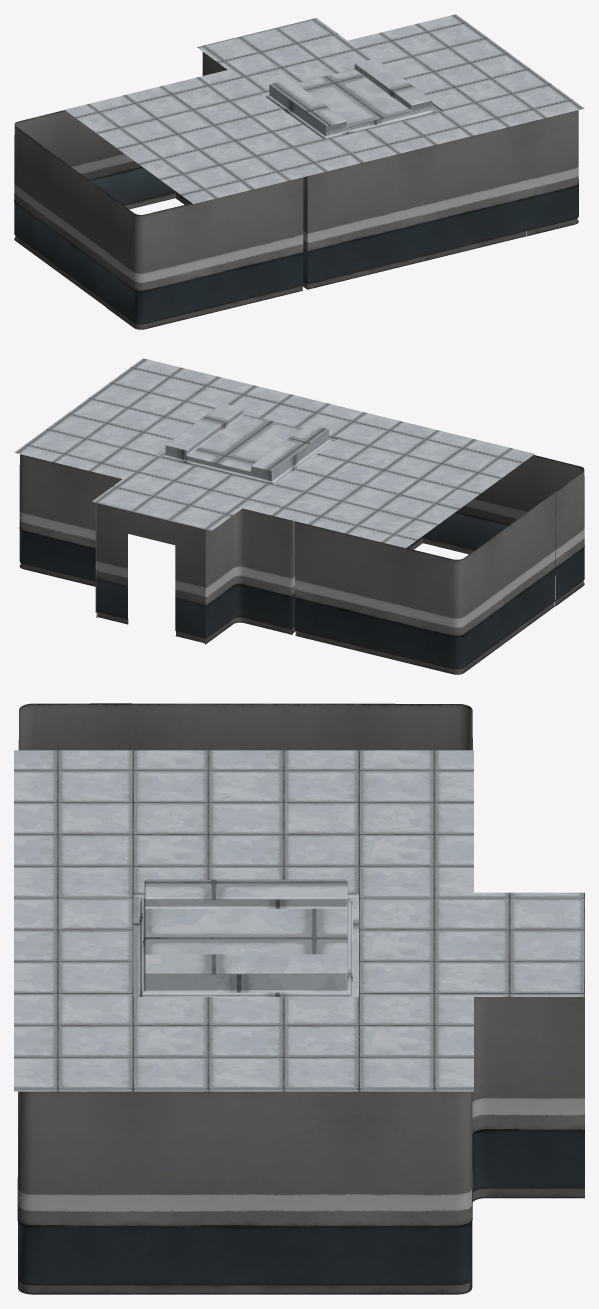
The model's file is StylizingAiRoomModulars 1.fbx.
3 views of the same model, one above another, from view 1: azimuth 30°, elevation 25°; view 2: azimuth 150°, elevation 25°; view 3: azimuth 270°, elevation 25° (orthographic). The views are drawn at different scales.
Visible parts, largest first — view 1: Floor.003, Sm_AIRoomWall_01.008, Sm_AIRoomWall_01.001, Sm_AIRoomWall_01.003, Sm_AIRoomWall_02.002, SM_Ceiling_02, Sm_AIRoomWall_01.007, Sm_AIRoomWall_02.004, Sm_AIRoomWall_02.001, Sm_AIRoomWall_01.006, Sm_AIRoomWall_01.004; view 2: Floor.003, Sm_AIRoomWall_01.006, Sm_AIRoomWall_02.001, Sm_AIRoomWall_03.002, Plane.003, SM_Ceiling_02, Sm_AIRoomWall_01.007, Sm_AIRoomWall_02.003, Sm_AIRoomWall_02.002, Sm_AIRoomWall_01.008, Sm_AIRoomWall_03.001, Plane.004; view 3: Floor.003, Sm_AIRoomWall_01.002, SM_Ceiling_02, Sm_AIRoomWall_02.004, Sm_AIRoomWall_02.003, Sm_AIRoomWall_03.001, Sm_AIRoomWall_01.007, Sm_AIRoomWall_02.002, Sm_AIRoomWall_02.001.
Boxes of the visible parts, left/top/right/bottom form: Floor.003: left=64, top=14, right=584, bottom=203; Sm_AIRoomWall_01.008: left=193, top=177, right=303, bottom=317; Sm_AIRoomWall_01.001: left=307, top=149, right=416, bottom=289; Sm_AIRoomWall_01.003: left=416, top=123, right=526, bottom=262; Sm_AIRoomWall_02.002: left=106, top=193, right=193, bottom=329; SM_Ceiling_02: left=260, top=58, right=442, bottom=139; Sm_AIRoomWall_01.007: left=43, top=147, right=106, bottom=307; Sm_AIRoomWall_02.004: left=526, top=110, right=578, bottom=236; Sm_AIRoomWall_02.001: left=14, top=110, right=66, bottom=261; Sm_AIRoomWall_01.006: left=66, top=111, right=175, bottom=209; Sm_AIRoomWall_01.004: left=303, top=176, right=308, bottom=289; Floor.003: left=14, top=358, right=534, bottom=548; Sm_AIRoomWall_01.006: left=295, top=521, right=405, bottom=662; Sm_AIRoomWall_02.001: left=404, top=538, right=492, bottom=674; Sm_AIRoomWall_03.002: left=204, top=508, right=292, bottom=644; Plane.003: left=96, top=503, right=206, bottom=643; SM_Ceiling_02: left=155, top=403, right=337, bottom=484; Sm_AIRoomWall_01.007: left=491, top=491, right=555, bottom=652; Sm_AIRoomWall_02.003: left=19, top=454, right=72, bottom=580; Sm_AIRoomWall_02.002: left=532, top=455, right=584, bottom=605; Sm_AIRoomWall_01.008: left=422, top=456, right=532, bottom=554; Sm_AIRoomWall_03.001: left=72, top=467, right=121, bottom=617; Plane.004: left=290, top=520, right=295, bottom=634; Floor.003: left=14, top=750, right=584, bottom=1091; Sm_AIRoomWall_01.002: left=132, top=1091, right=358, bottom=1294; SM_Ceiling_02: left=133, top=879, right=358, bottom=996; Sm_AIRoomWall_02.004: left=17, top=1091, right=132, bottom=1294; Sm_AIRoomWall_02.003: left=358, top=1091, right=472, bottom=1294; Sm_AIRoomWall_03.001: left=472, top=997, right=584, bottom=1201; Sm_AIRoomWall_01.007: left=132, top=703, right=358, bottom=750; Sm_AIRoomWall_02.002: left=18, top=703, right=132, bottom=750; Sm_AIRoomWall_02.001: left=358, top=703, right=472, bottom=750.
Size of the model in its own units: 814 by 218 by 506.
